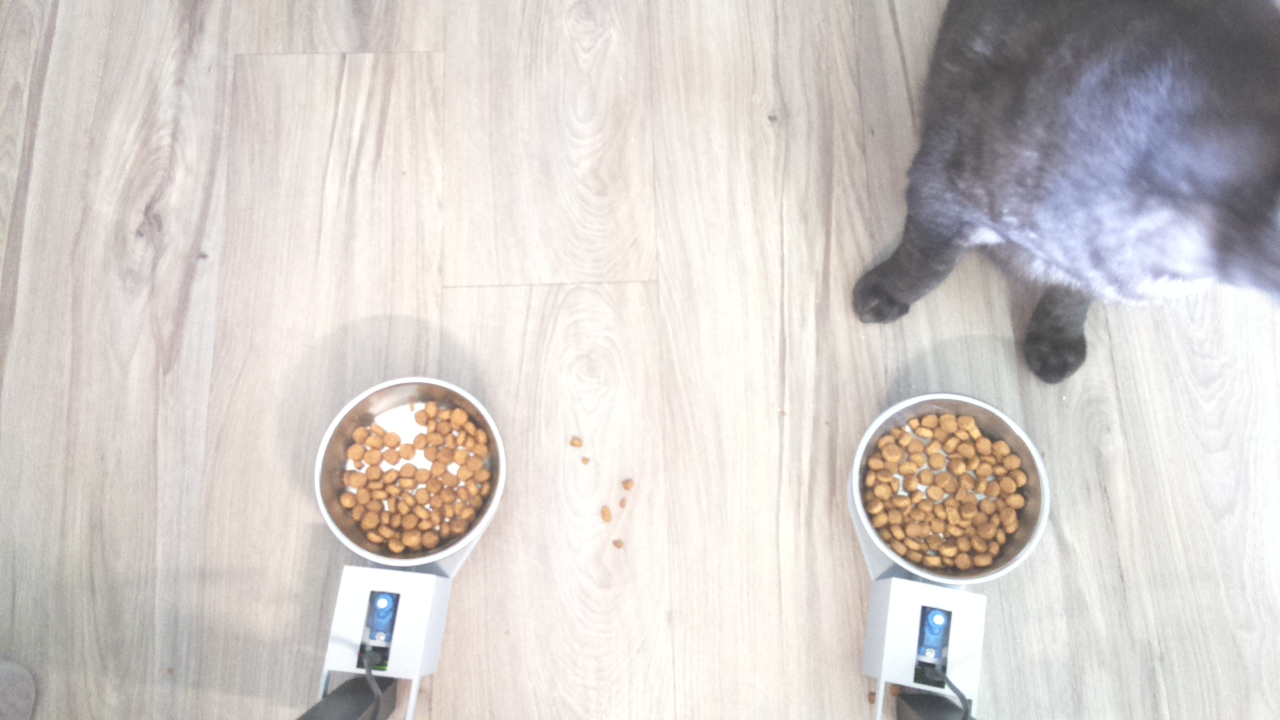open_bowl: (844, 390, 1054, 585), (312, 372, 507, 570)
